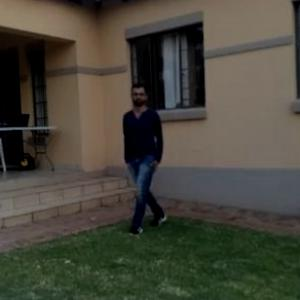follow: (126, 86, 174, 228)
